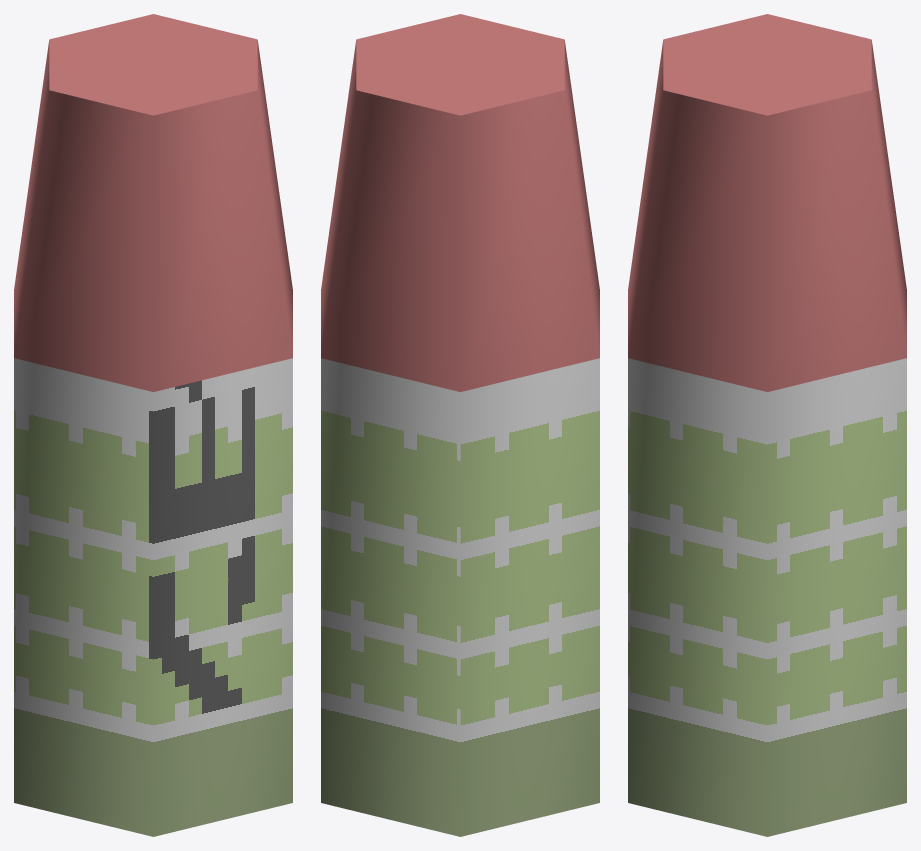
File: 032d_Red_Crayon.glb
The picture shows the model from 3 angles, left to right: view 1: azimuth 30°, elevation 25°; view 2: azimuth 150°, elevation 25°; view 3: azimuth 270°, elevation 25°; orthographic projection.
Parts seen in each view (by area): view 1: part_0; view 2: part_0; view 3: part_0.
Part boxes in pixels (x1,y1,x2,y2): part_0: (14, 14, 292, 836); part_0: (321, 14, 599, 836); part_0: (628, 14, 906, 836).
Size of the model in its own units: 0.014 by 0.0338 by 0.0121.
1 material, 1 textured.
